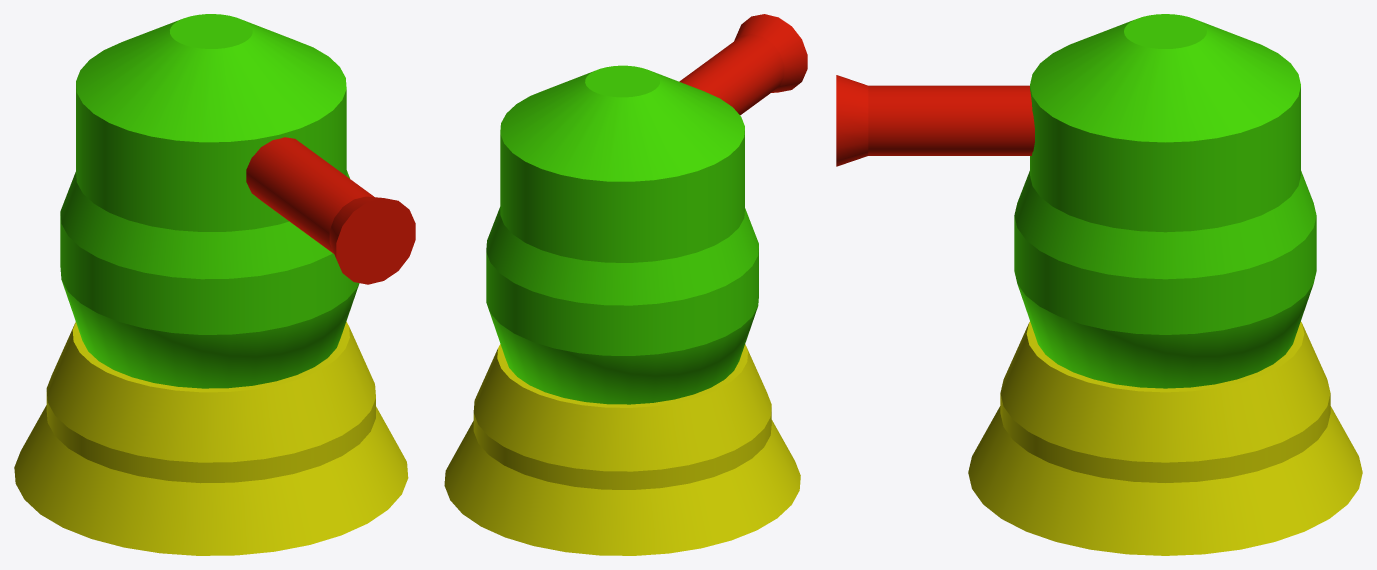
Rendered from Turret1.fbx.
The picture shows the model from 3 angles, left to right: view 1: azimuth 30°, elevation 25°; view 2: azimuth 150°, elevation 25°; view 3: azimuth 270°, elevation 25°; orthographic projection. The views are drawn at different scales.
Visible parts, largest first — view 1: Cylinder.001, Cylinder; view 2: Cylinder.001, Cylinder; view 3: Cylinder.001, Cylinder.
Part boxes in pixels (bbox=[...]): Cylinder.001: bbox=[60, 14, 415, 388]; Cylinder: bbox=[14, 322, 408, 555]; Cylinder.001: bbox=[486, 14, 807, 404]; Cylinder: bbox=[444, 344, 800, 555]; Cylinder.001: bbox=[836, 14, 1316, 388]; Cylinder: bbox=[968, 321, 1362, 555].
Size of the model in its own units: 94.2 by 116 by 126.
